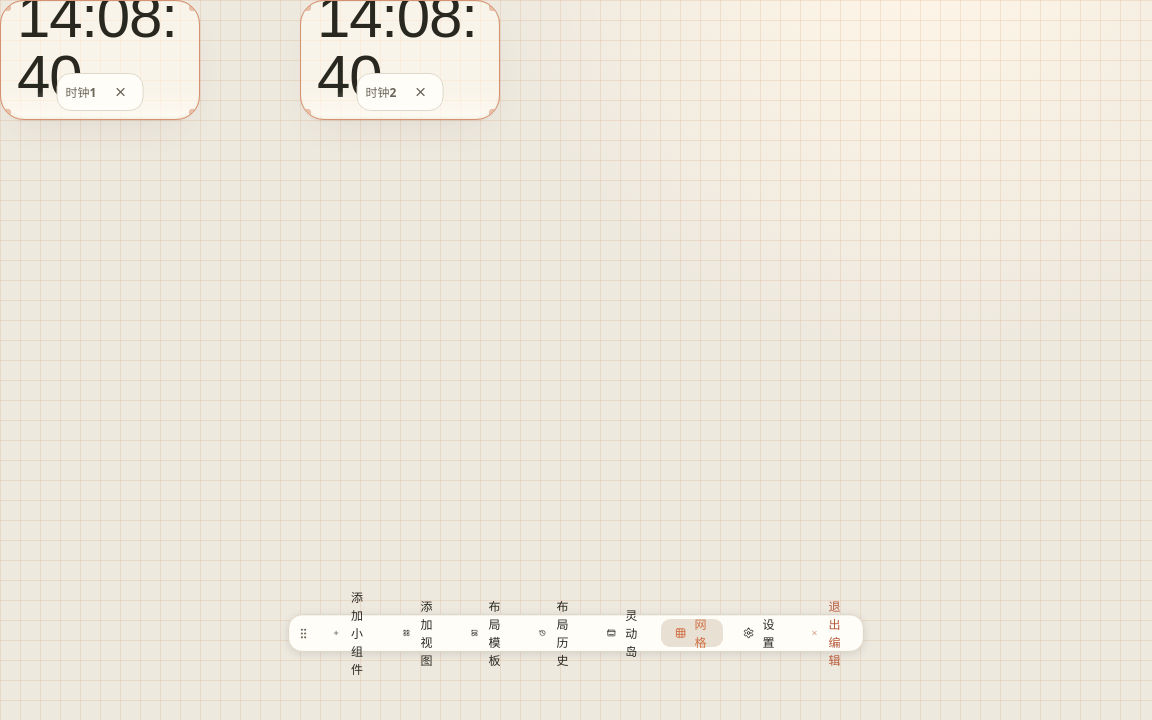
it: 编辑工具栏弹层治理 › 模板面板打开即聚焦名称输入框，且输入框有可访问名
This screenshot has width=1152, height=720.
Click the button "布局模板": x=488, y=633 [457, 619, 519, 647]
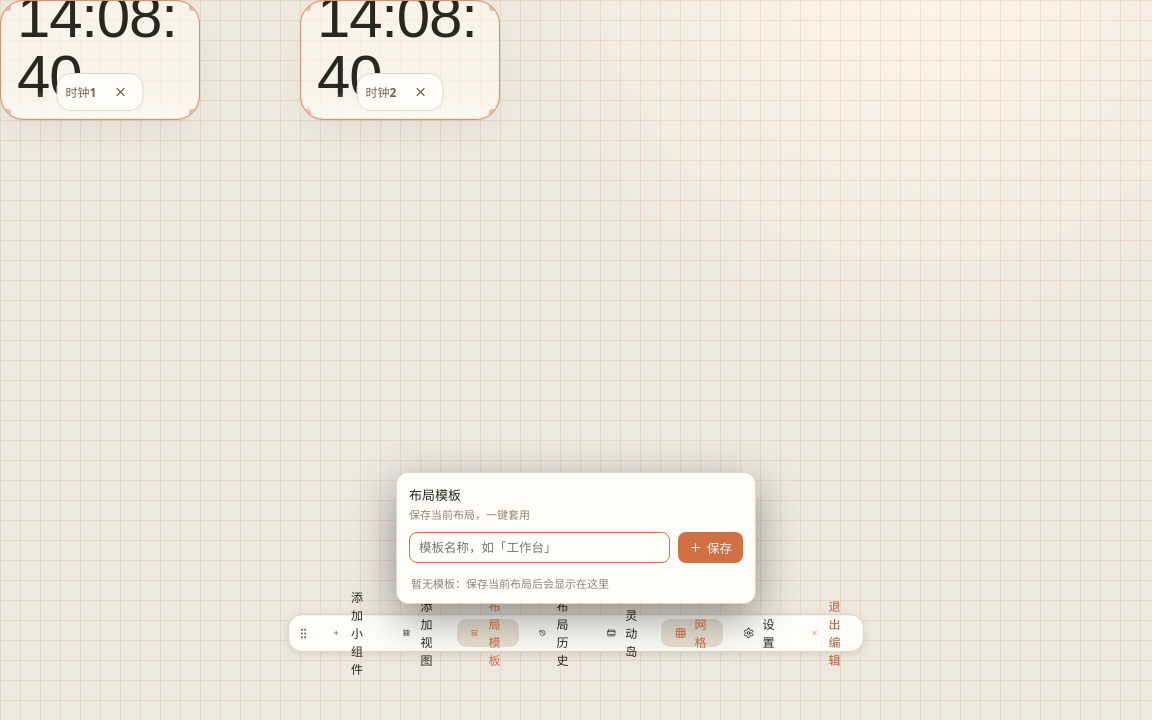
Check: the dialog "布局模板" is shown, box [396, 472, 756, 604]
